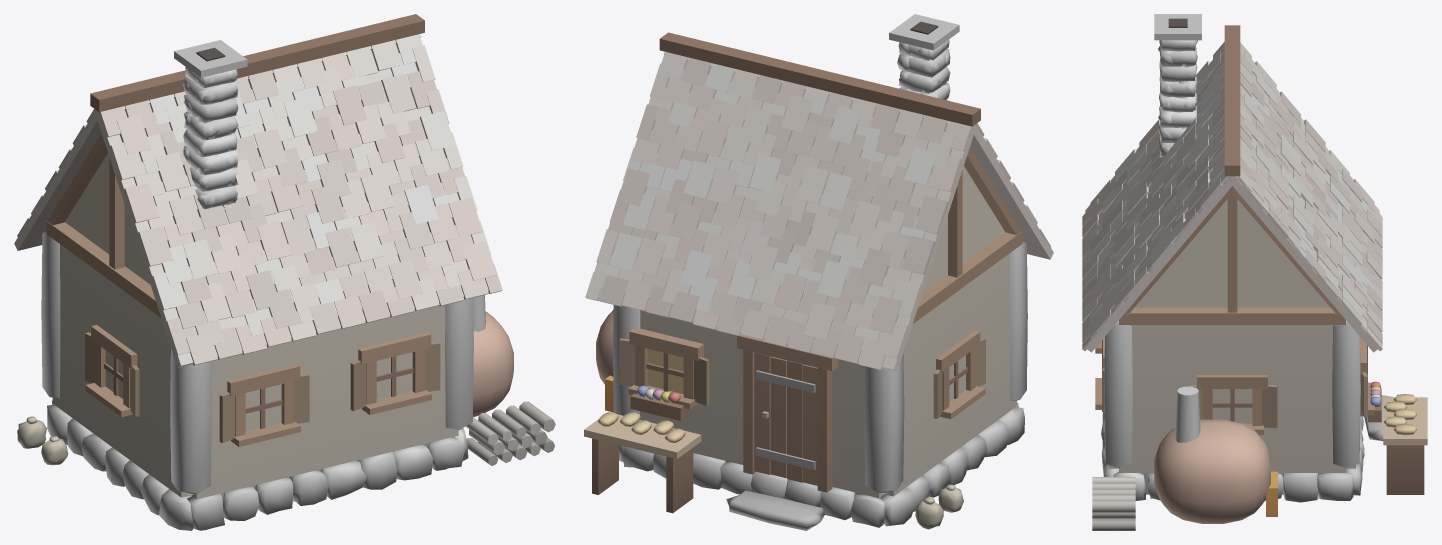
File: hw_medieval_bakery.glb
3 renders of one model, left to right at view 1: azimuth 30°, elevation 25°; view 2: azimuth 150°, elevation 25°; view 3: azimuth 270°, elevation 25°, orthographic. The views are drawn at different scales.
Parts seen in each view (by area): view 1: Building; view 2: Building; view 3: Building.
Boxes of the visible parts, bbox=[...] form: Building: bbox=[14, 14, 555, 530]; Building: bbox=[584, 14, 1053, 530]; Building: bbox=[1082, 14, 1427, 530].
Size of the model in its own units: 4.27 by 4.33 by 3.49.
